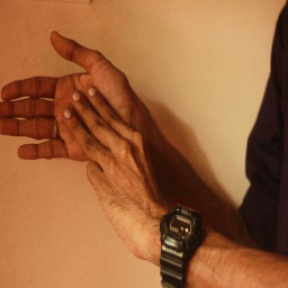M: (1, 30, 146, 195)
